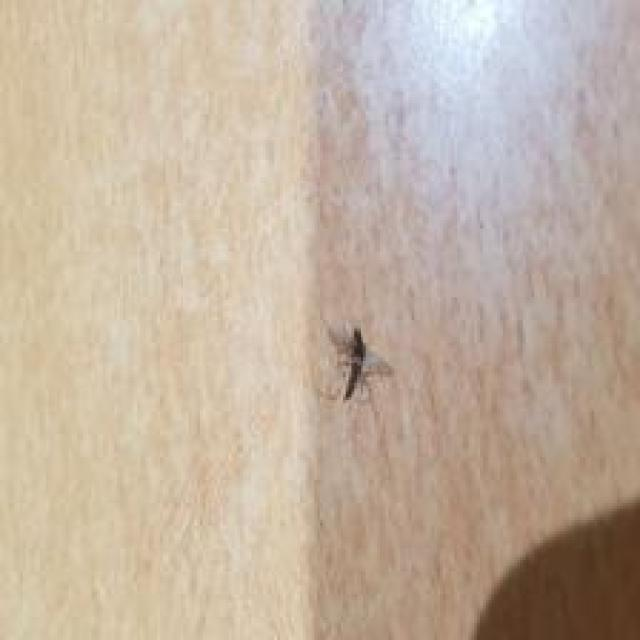Culex: (323, 320, 394, 403)
